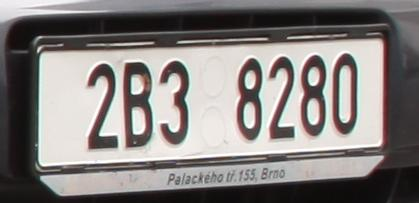0: (331, 53, 360, 136)
2: (86, 62, 121, 151), (268, 55, 299, 140)
3: (158, 60, 190, 147)
8: (299, 54, 328, 138), (237, 57, 264, 142)
B: (123, 62, 156, 149)
